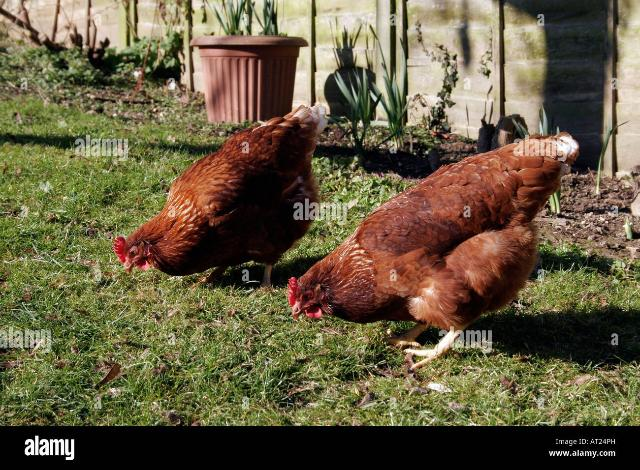Chicken: (289, 130, 578, 371), (115, 103, 325, 295)
